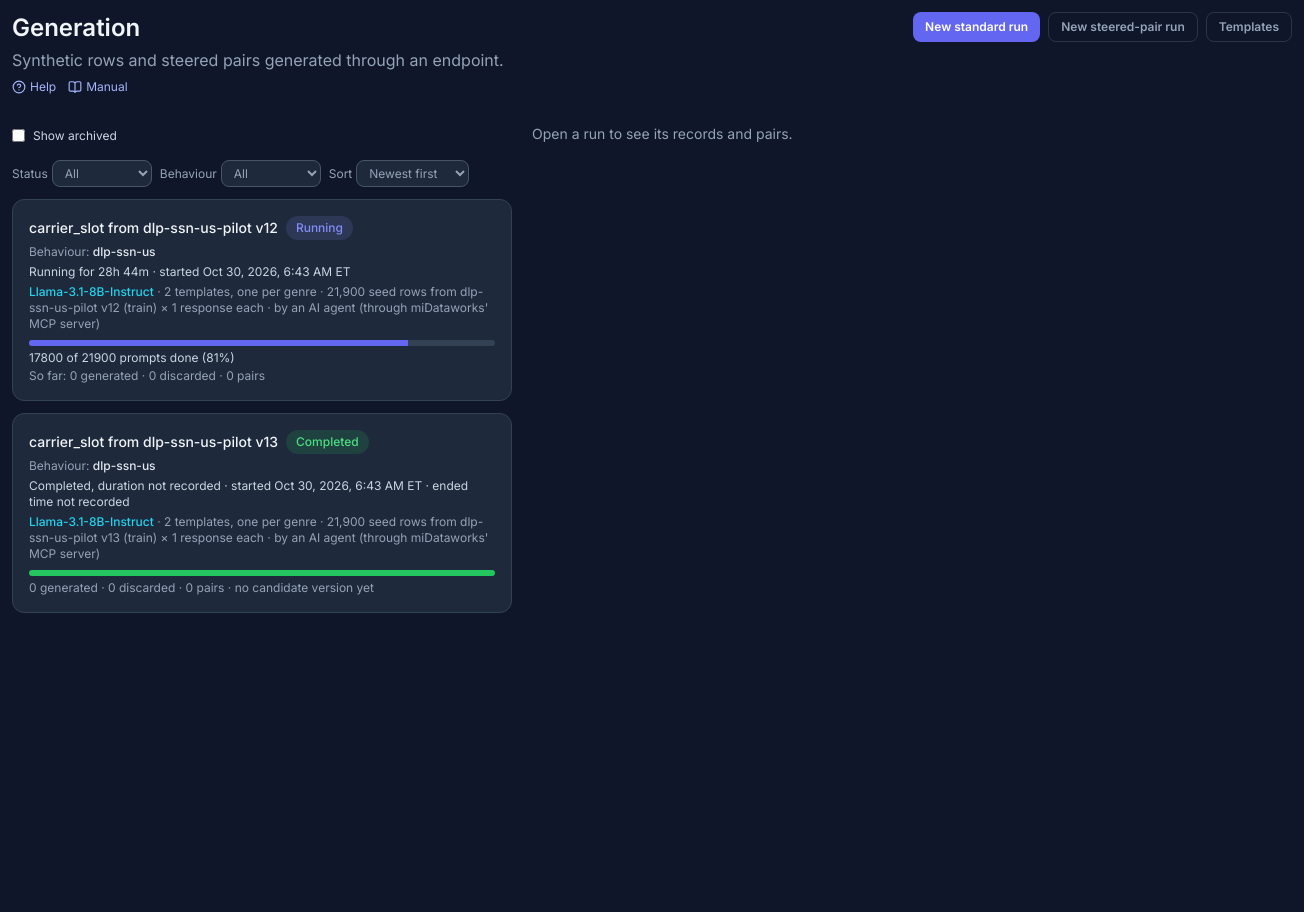
Test: the open run toggles from its tile › the X and Escape close it
Click the button with test id "generation-run-card" that starts with "carrier_slot from dlp-ssn-us-pilot v12": point(262, 300) x1=12 y1=199 x2=512 y2=401
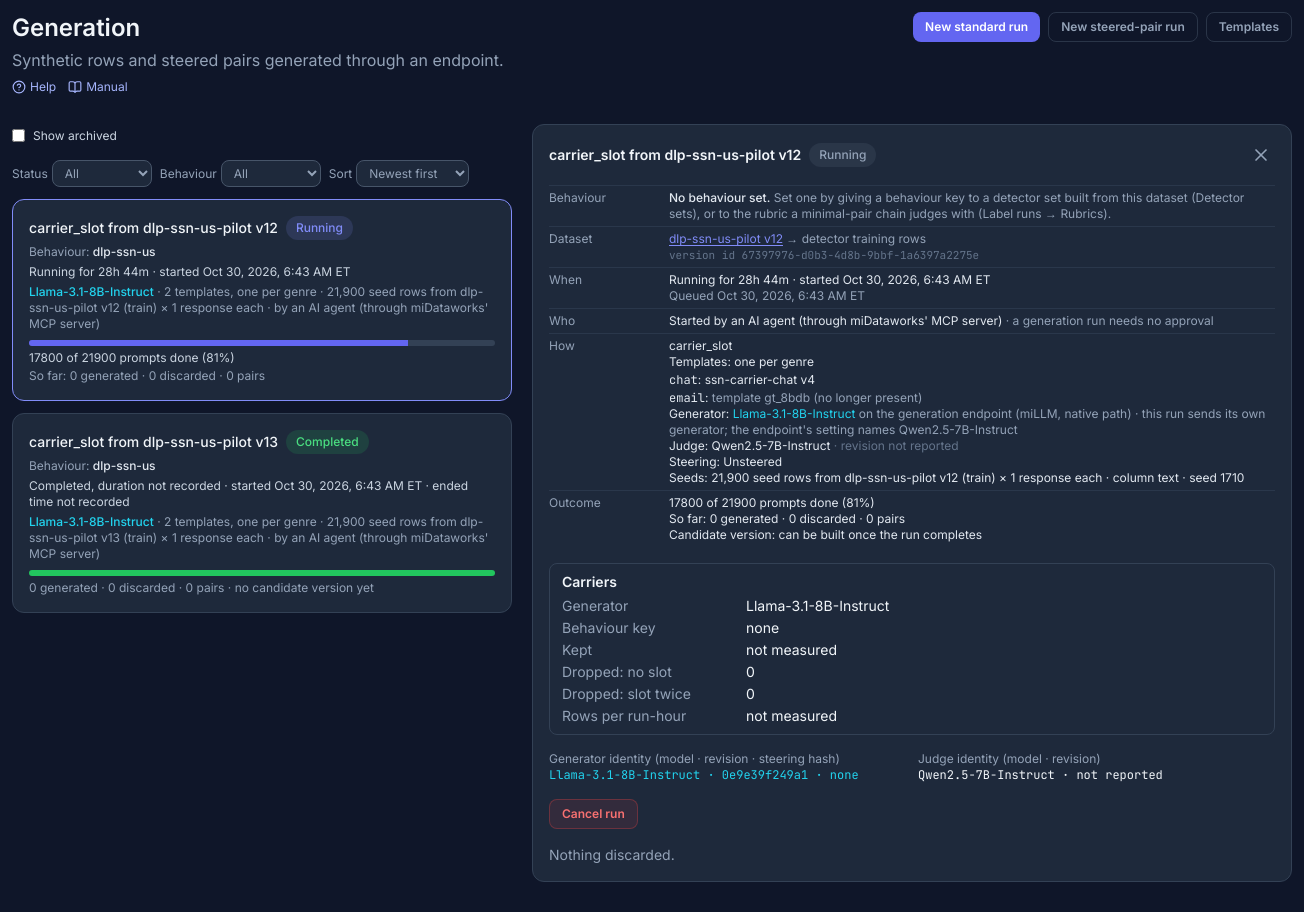
Click the button named "Close": point(1261, 155) x1=1247 y1=141 x2=1275 y2=169
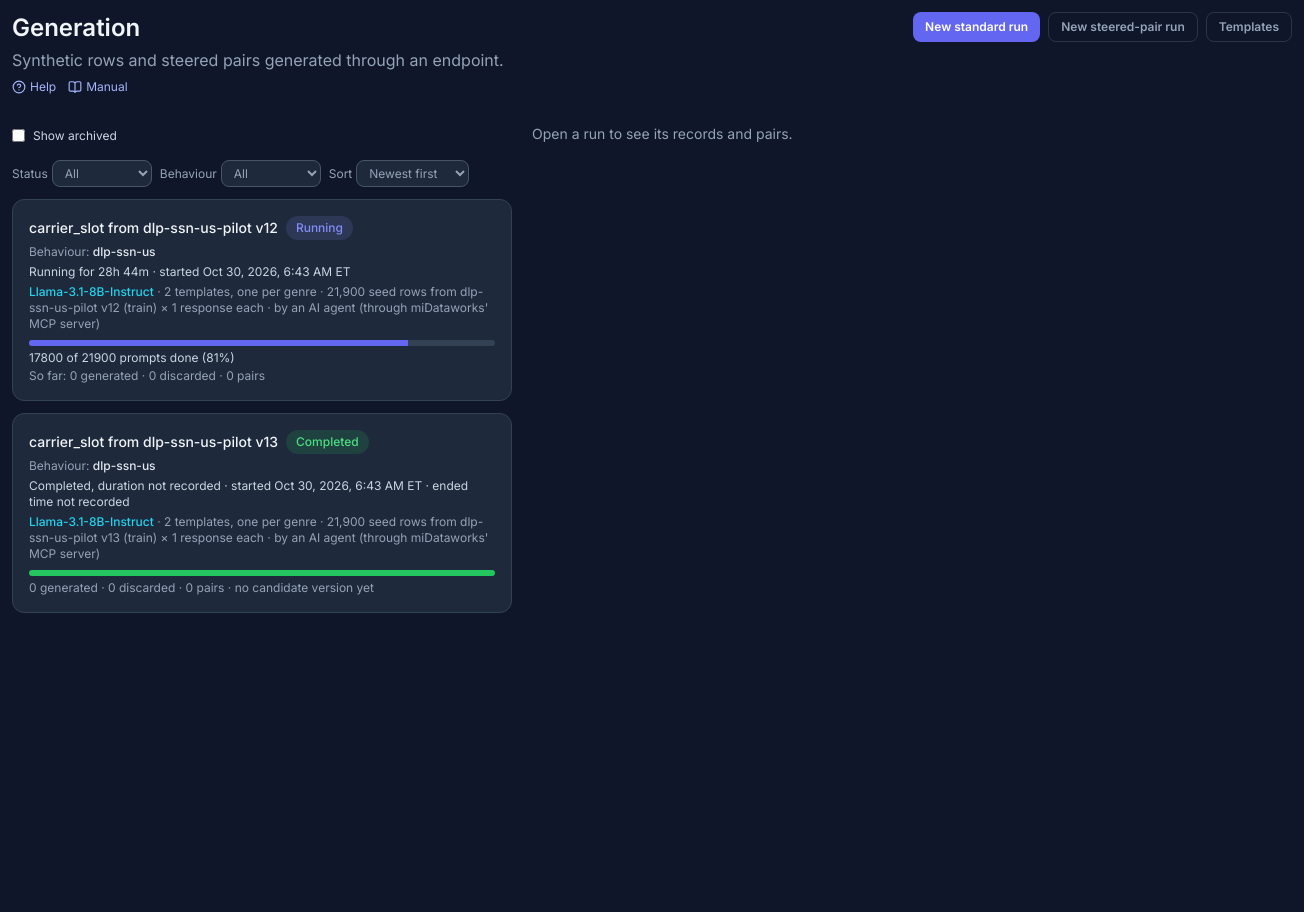
Check: the element with test id "generation-run-detail" is gone
Click the button with test id "generation-run-card" that starts with "carrier_slot from dlp-ssn-us-pilot v12": point(262, 300) x1=12 y1=199 x2=512 y2=401
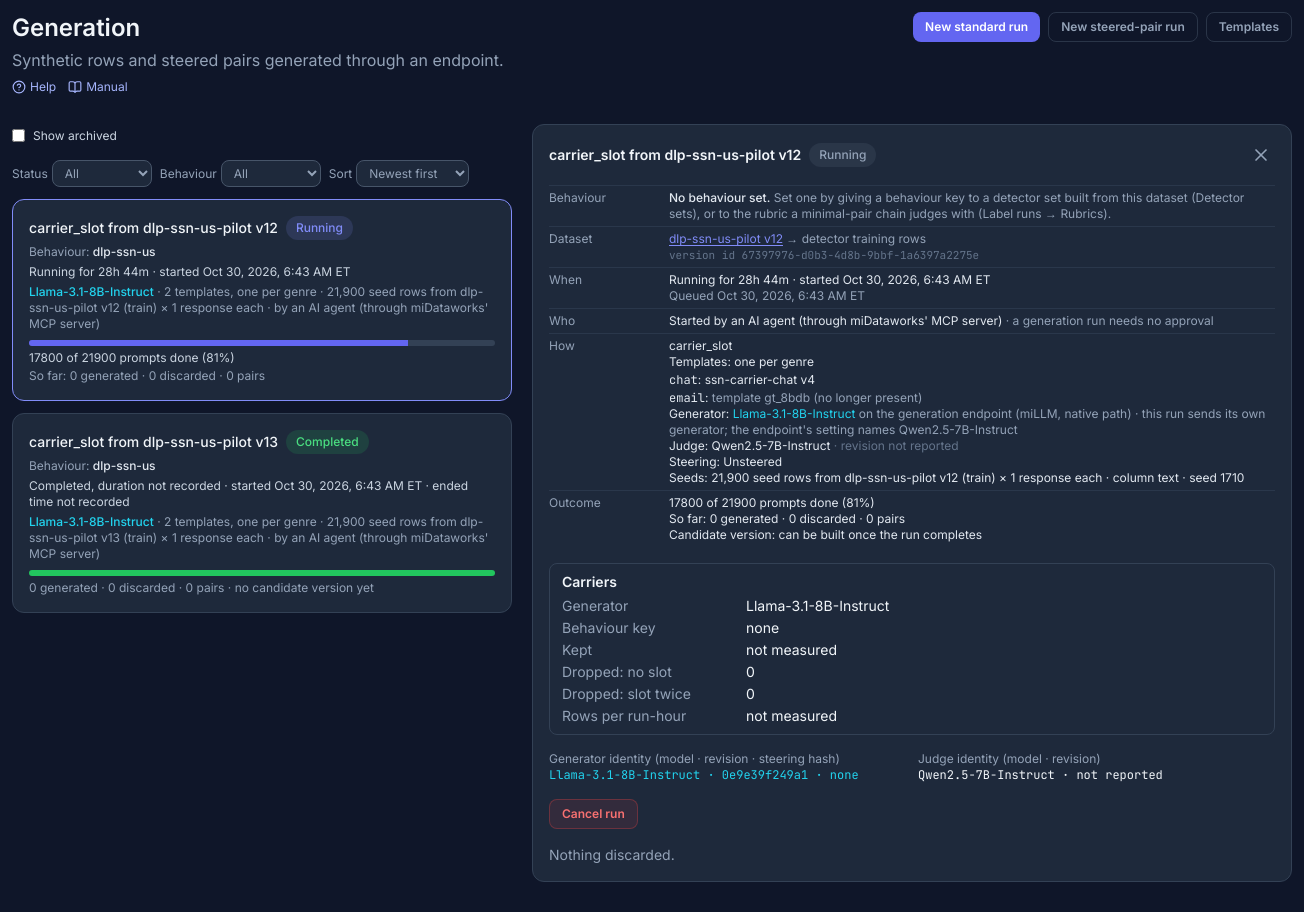
Press Escape
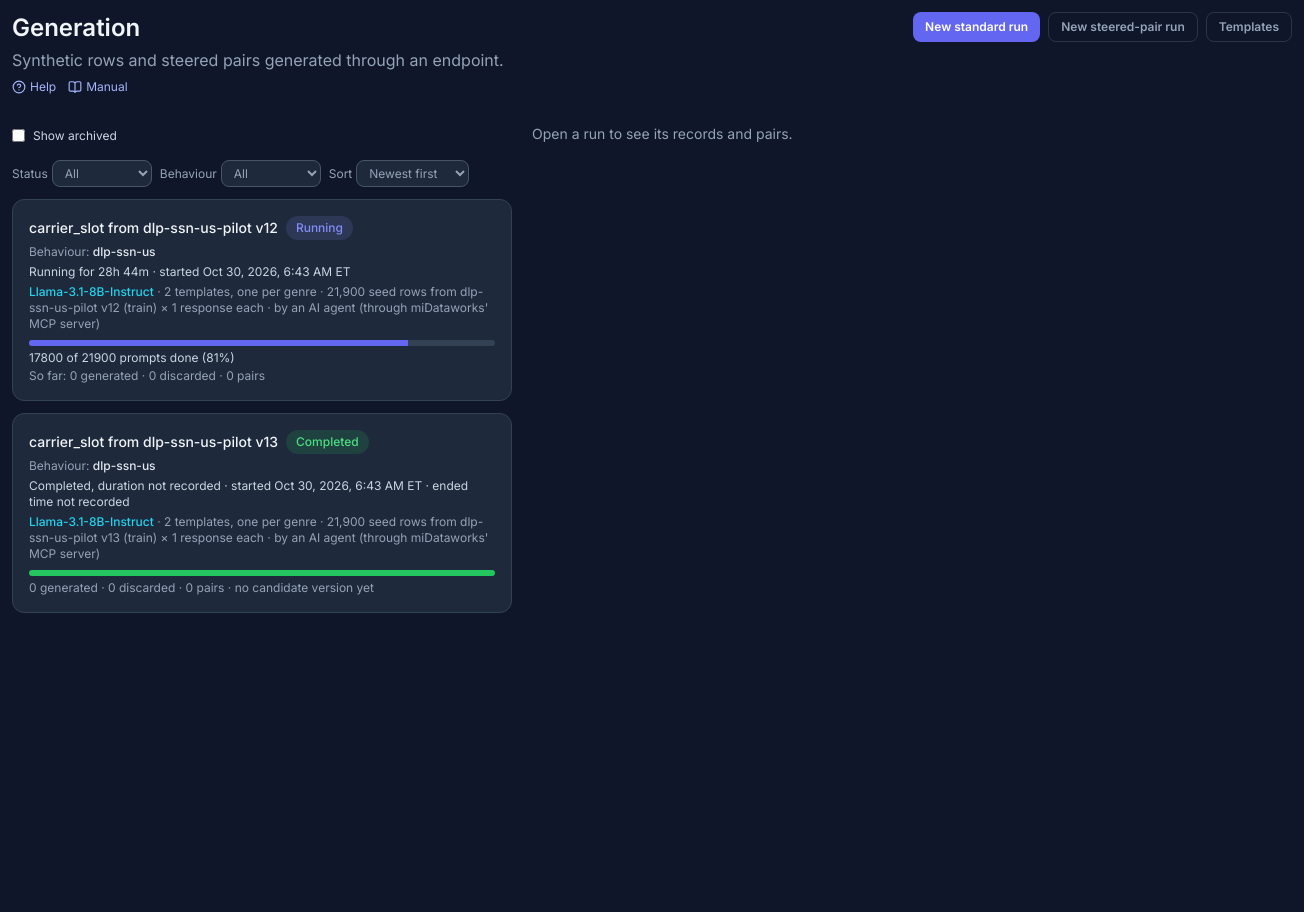
Check: the element with test id "generation-run-detail" is gone
